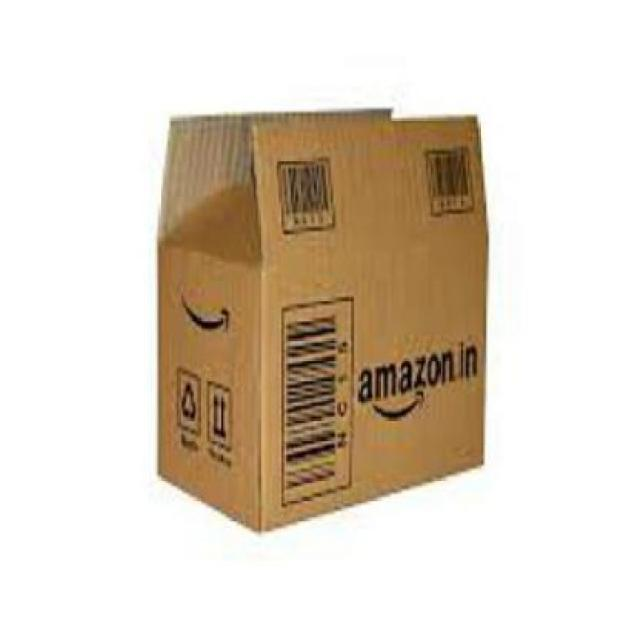box: (160, 113, 488, 536)
